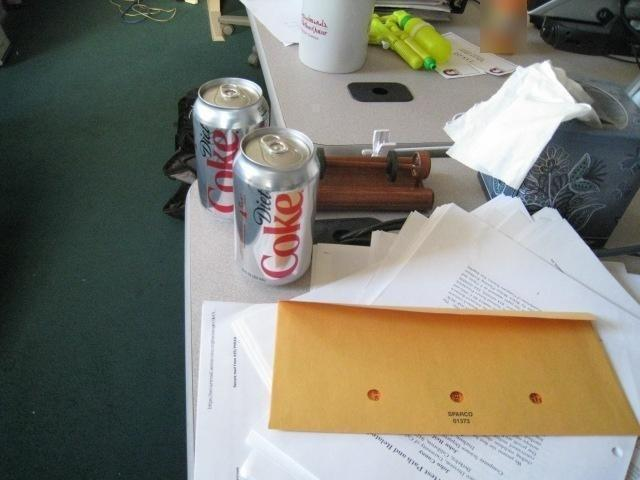tin can: (232, 124, 323, 285), (191, 76, 267, 213)
